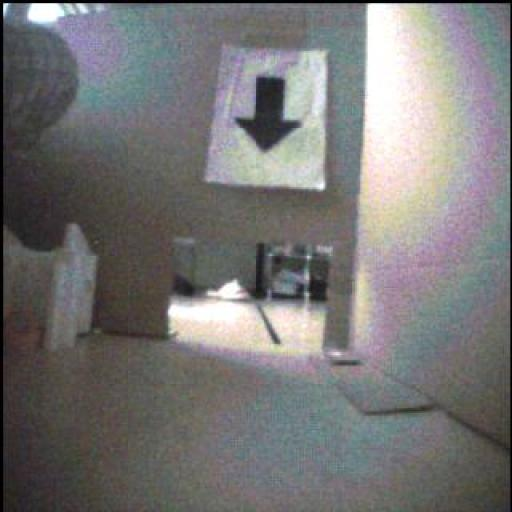arrow: (236, 78, 302, 153)
